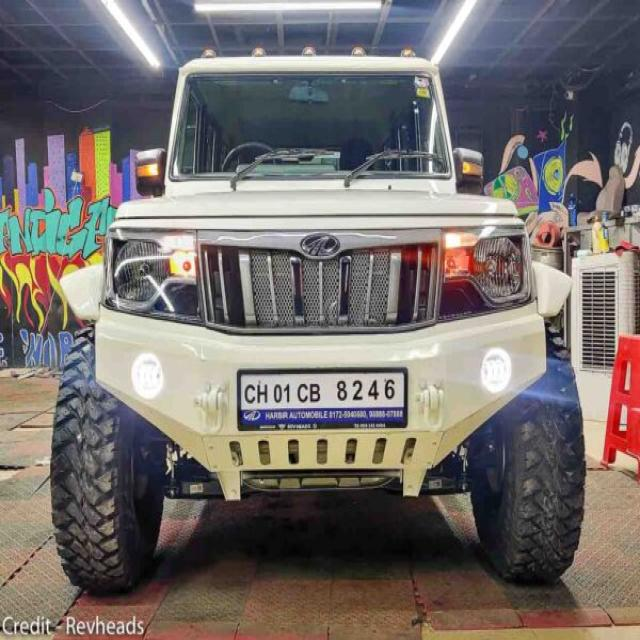light_vehicle: (51, 48, 590, 611)
